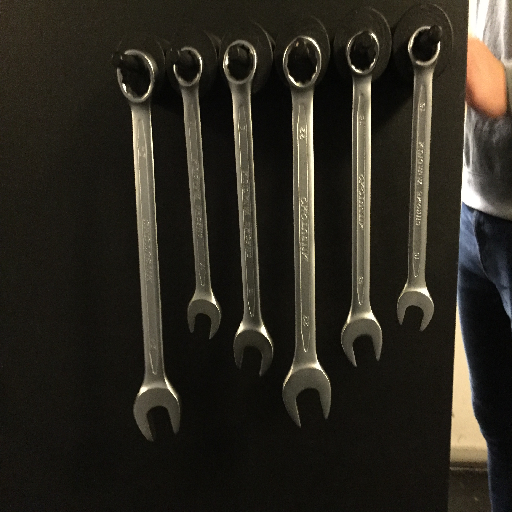bottom: (278, 364, 337, 428), (128, 386, 186, 444), (338, 314, 388, 369), (231, 326, 276, 379), (391, 285, 437, 334), (183, 295, 224, 342)
top: (111, 47, 161, 106), (280, 34, 322, 91), (341, 27, 383, 77), (219, 38, 260, 88), (404, 22, 443, 72), (169, 44, 206, 90)
